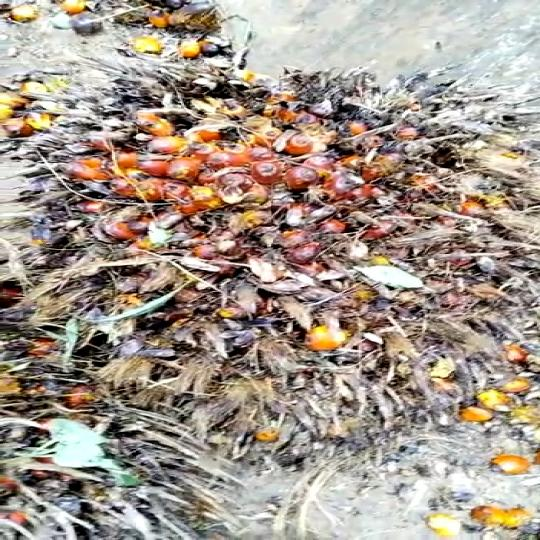terlalu masak: (0, 66, 522, 441)
